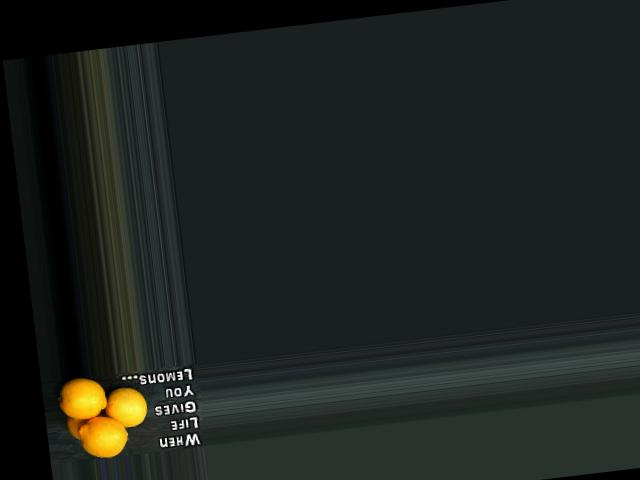lemon: (56, 377, 111, 421)
